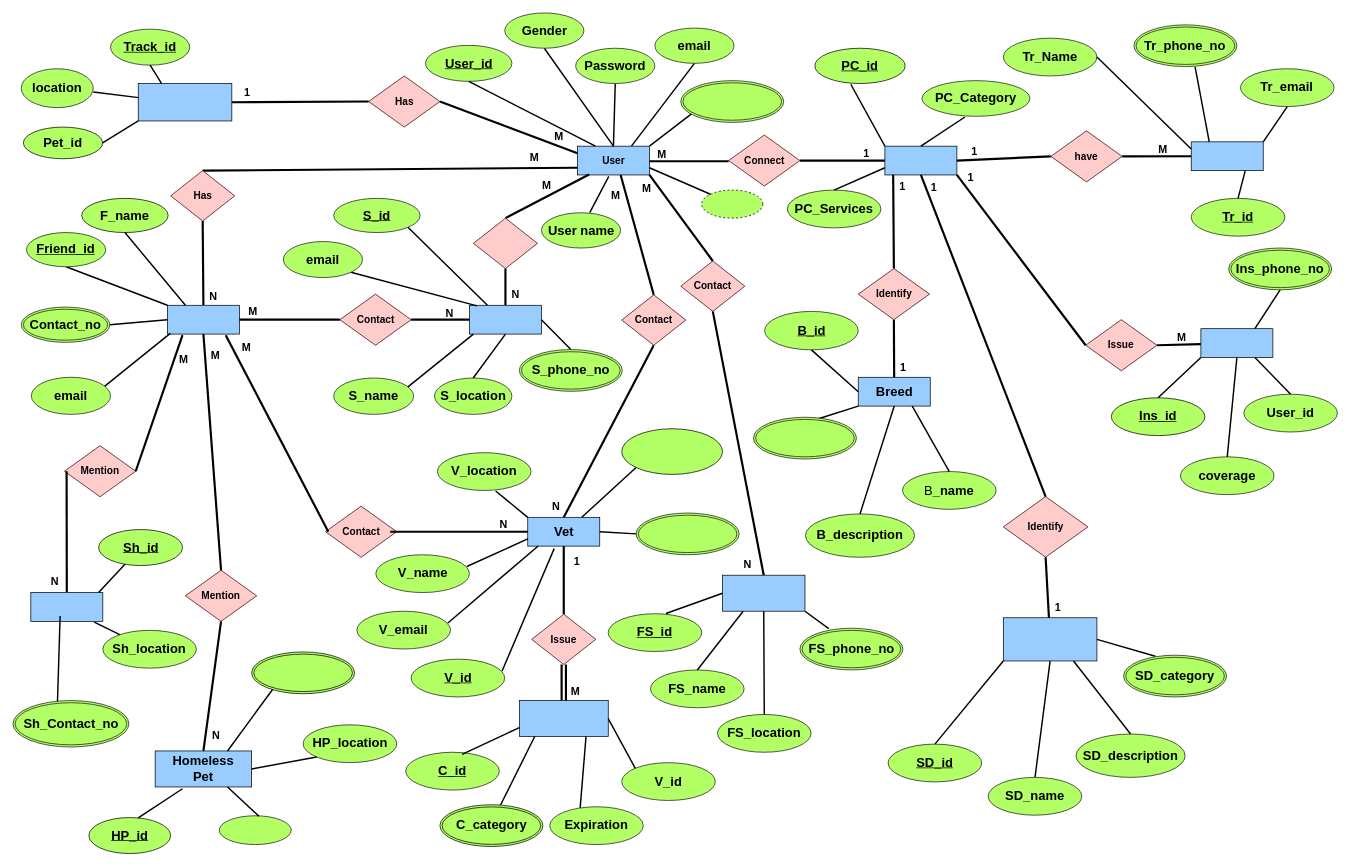
Some shapes in this 1350 by 866 pixel diagram are drawn without their labels. Each missing label, with the centre of its shape:
Access: the point at 505,243
age: the point at 732,203
B_category: the point at 804,438
Certificates: the point at 563,718
Friend: the point at 203,319
Funeral Shop: the point at 763,592
HP_category: the point at 303,672
Insurance: the point at 1236,342
Per Care: the point at 920,160
Pet Tracker: the point at 185,102
Shelters: the point at 66,606
Shop: the point at 505,319
Skin Diseases: the point at 1050,639
specialization: the point at 672,451
Status: the point at 255,830
Trainers: the point at 1227,156
U_phone_no: the point at 732,101
V_phone_no: the point at 687,533
